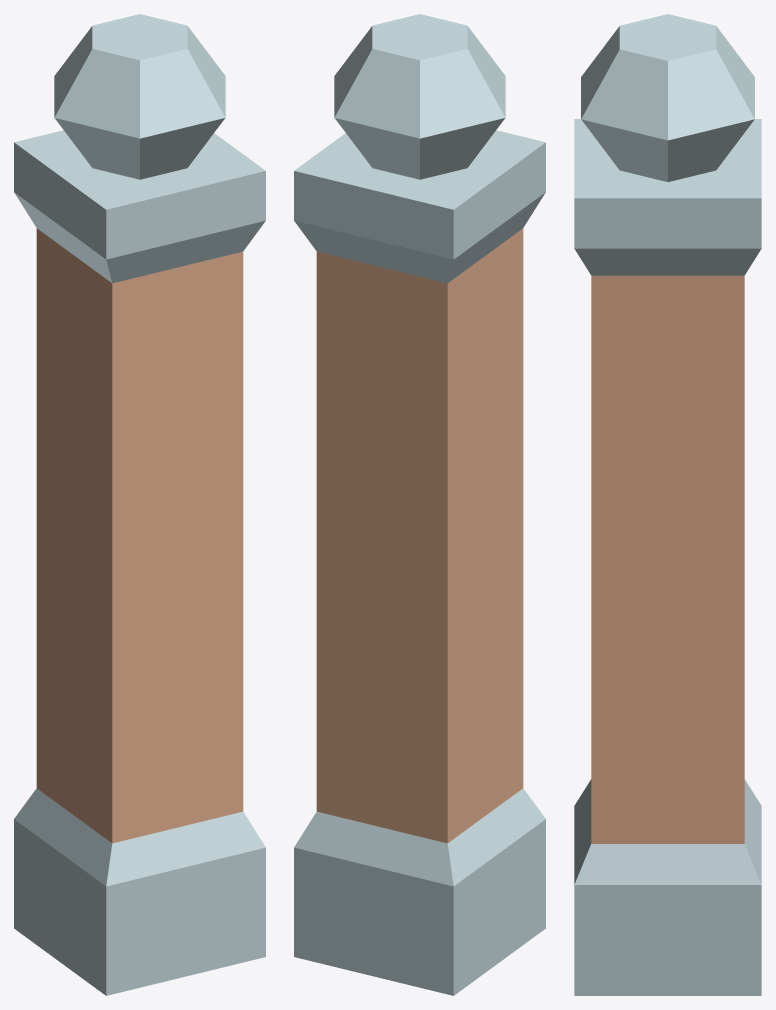
Rendered from pillarLarge.glb.
3 views of the same model, side by side, from view 1: azimuth 30°, elevation 25°; view 2: azimuth 150°, elevation 25°; view 3: azimuth 270°, elevation 25° (orthographic).
Visible parts, largest first — view 1: pillarLarge; view 2: pillarLarge; view 3: pillarLarge.
Boxes of the visible parts, bbox=[...] form: pillarLarge: bbox=[14, 14, 265, 995]; pillarLarge: bbox=[294, 14, 545, 995]; pillarLarge: bbox=[574, 14, 761, 995].
Size of the model in its own units: 0.18 by 0.91 by 0.168.
